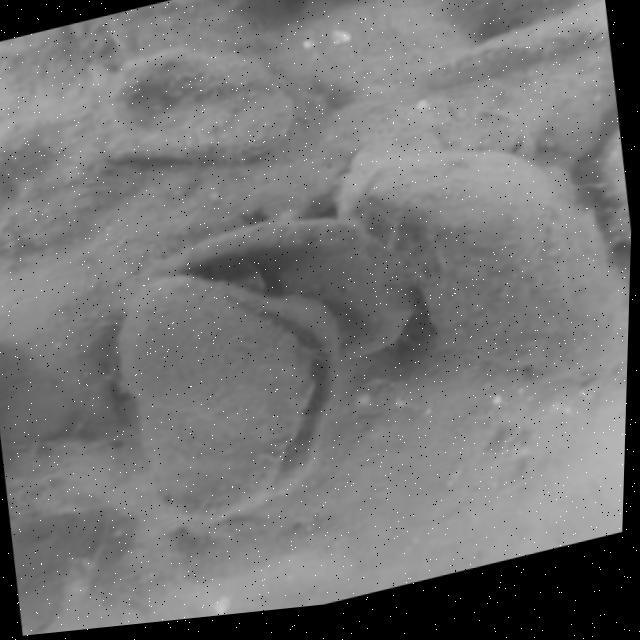Oyster-Indeterminate: (344, 142, 630, 388), (156, 216, 421, 365), (98, 42, 296, 167)
Oyster-Open: (126, 278, 339, 523)
